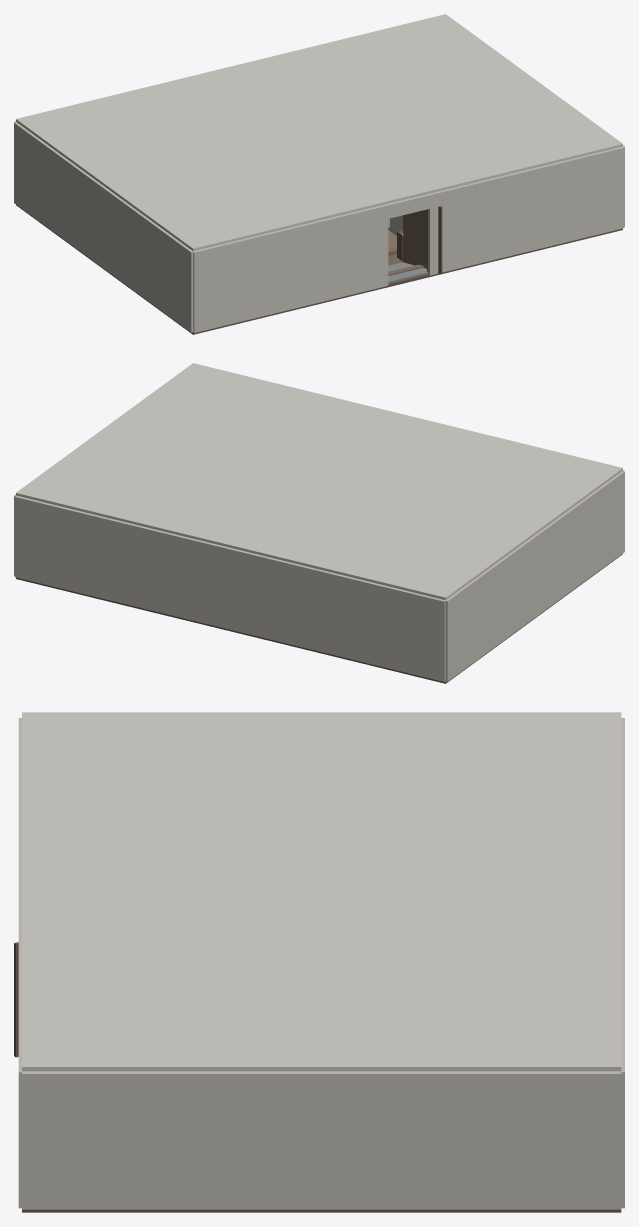
File: house_shell_one_story.glb
3 views of the same model, one above another, from view 1: azimuth 30°, elevation 25°; view 2: azimuth 150°, elevation 25°; view 3: azimuth 270°, elevation 25° (orthographic). The views are drawn at different scales.
Visible parts, largest first — view 1: world; view 2: world; view 3: world.
Boxes of the visible parts, x1,y1,x2,y2 form: world: [14, 14, 624, 334]; world: [14, 363, 624, 683]; world: [14, 712, 624, 1212].
Bounding box in the file's own units: 14.12 × 2.68 × 10.2.
